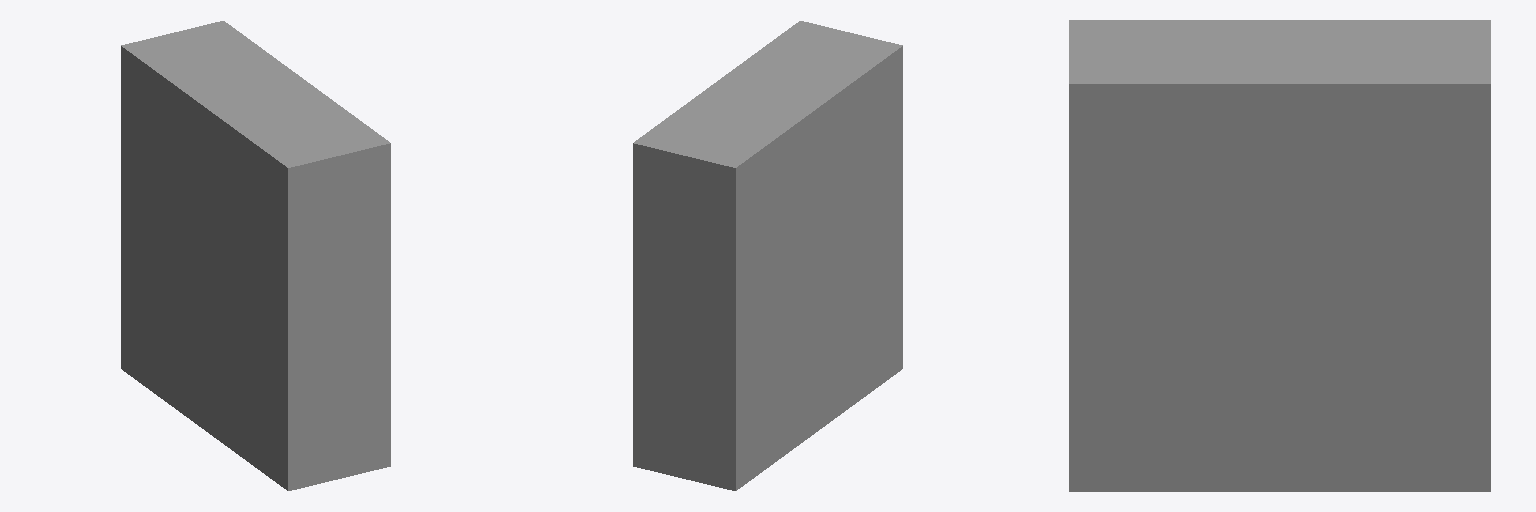
robot.urdf — clamps.urdf:
<?xml version="1.0" ?>
<robot name="clamps.urdf">
  <link name="clamps_link">
    <contact>
      <lateral_friction value="0.12"/>
      <inertia_scaling value="1.0"/>
    </contact>
    <inertial>
      <origin rpy="0 0 0" xyz="0 0 0"/>
       <mass value="0.112"/>
       <inertia ixx="0.000166666667" ixy="0" ixz="0" iyy="0.000166666667" iyz="0" izz="0.000166666667"/>
    </inertial>
    <visual>
      <origin rpy="0 0 0" xyz="0 0 0"/>
      <geometry>
        <box size="0.06985 0.19685 0.20955" />
      </geometry>
       <material name="white">
        <color rgba="0.66 0.66 0.66 1"/>
      </material>
    </visual>
    <collision>
      <origin rpy="0 0 0" xyz="0 0 0"/>
      <geometry>
        <box size="0.06985 0.19685 0.20955"/>
      </geometry>
    </collision>
  </link>
  <joint name="clamps_joint" type="fixed">
    <parent link="world"/>
    <child link="clamps_link"/>
    <origin rpy="0 0 0" xyz="0 0 0"/>
  </joint>
  <link name="world">
    <inertial>
      <origin rpy="0 0 0" xyz="0 0 0"/>
      <mass value="0.0"/>
      <inertia ixx="0.001" ixy="0.0" ixz="0.0" iyy="0.001" iyz="0.0" izz="0.001"/>
    </inertial>
  </link>
</robot>

--- What the picture shows (computed from the rendered views, not written in the file) ---
Views: 3 orthographic renders of the robot side by side, from view 1: azimuth 30°, elevation 25°; view 2: azimuth 150°, elevation 25°; view 3: azimuth 270°, elevation 25°.
Model clamps.urdf with 2 links and 1 joints (1 fixed), rooted at world, posed all joints at 0.
Links seen in each view (by area): view 1: clamps_link; view 2: clamps_link; view 3: clamps_link.
Boxes of the visible links, bbox=[...] form: clamps_link: bbox=[121, 21, 390, 490]; clamps_link: bbox=[633, 21, 902, 490]; clamps_link: bbox=[1069, 20, 1490, 491].
Size in the robot's own frame: 0.0698 by 0.1969 by 0.2095 metres.
Geometry: primitives only (box / cylinder / sphere), no mesh files.